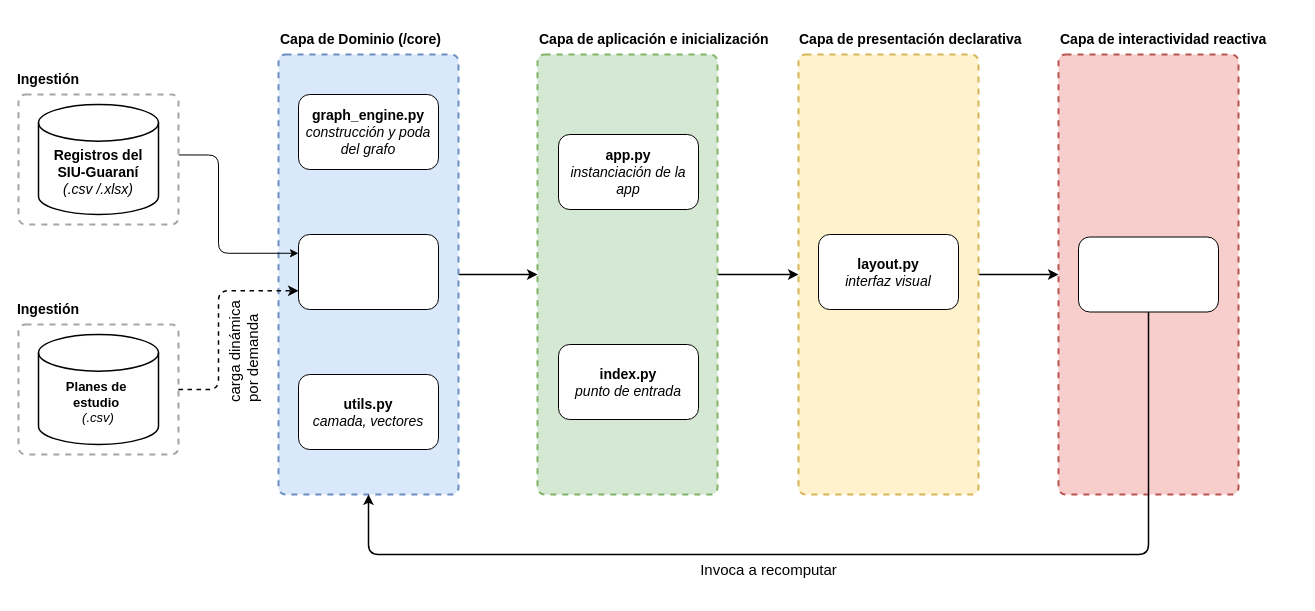
The diagram is 1315 pixels wide and 611 high, and some of its shapes have lost their labels. The shapes that lost their labels are listed below. From the top down, each one's box as (x1, y1, x2, y2) in pixels, then its label:
(298, 234, 438, 310): data_loader.py catálogo dinámico y preprocesamiento
(1078, 236, 1218, 312): callbacks.py @app.callback
